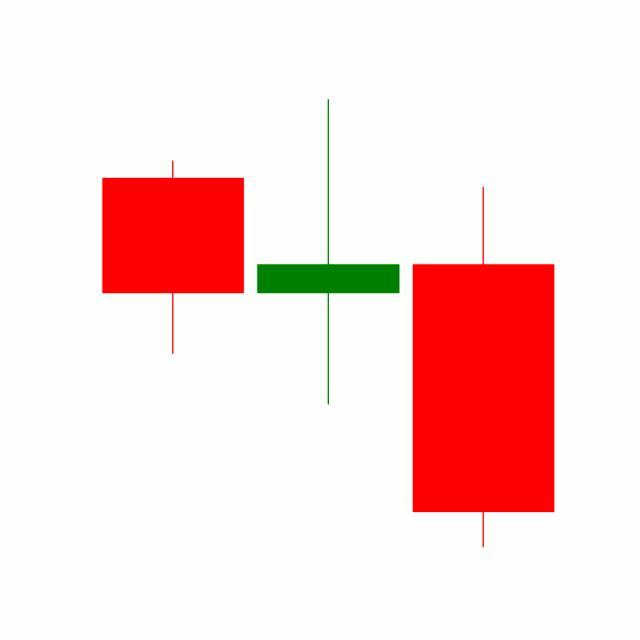Spinning Top: (250, 96, 407, 409)
